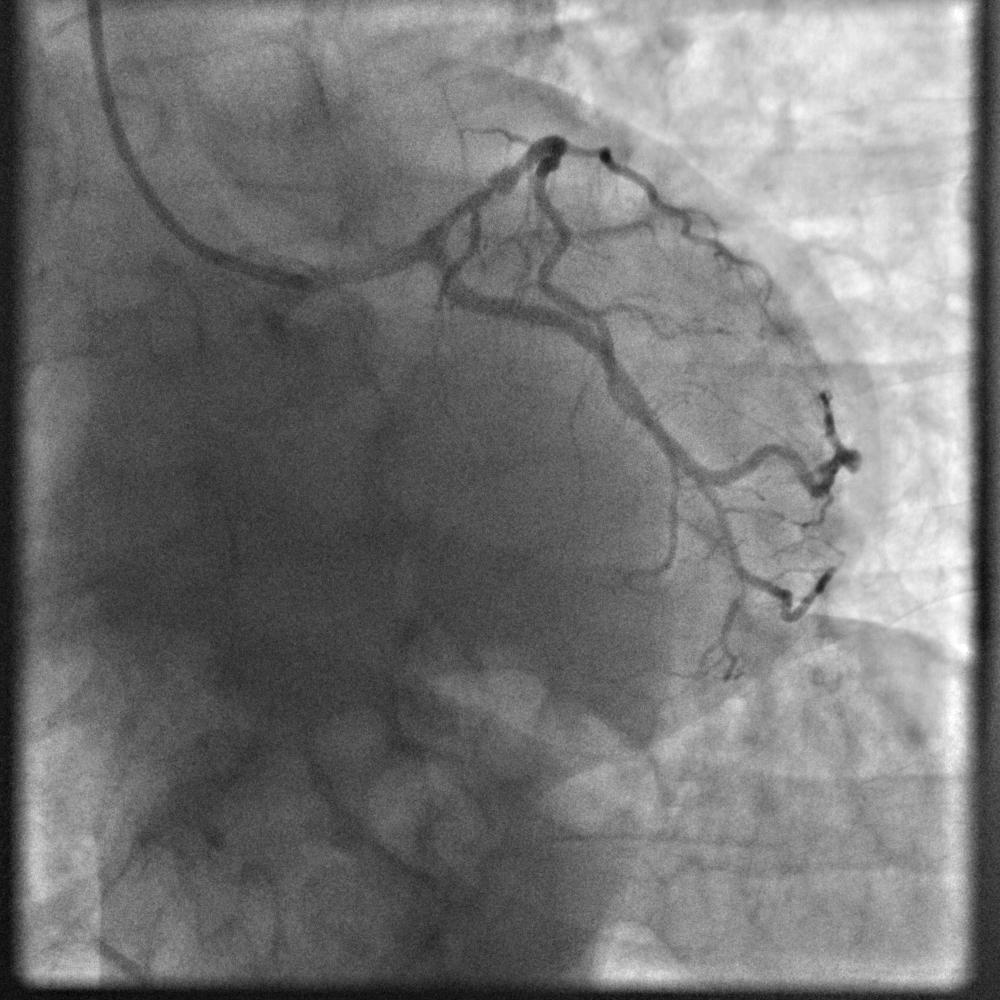Stenosis: (479, 179, 501, 202)
